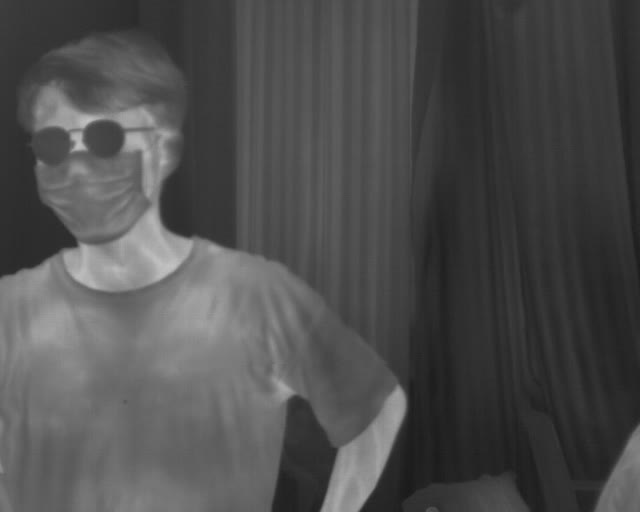face: (23, 30, 189, 246)
